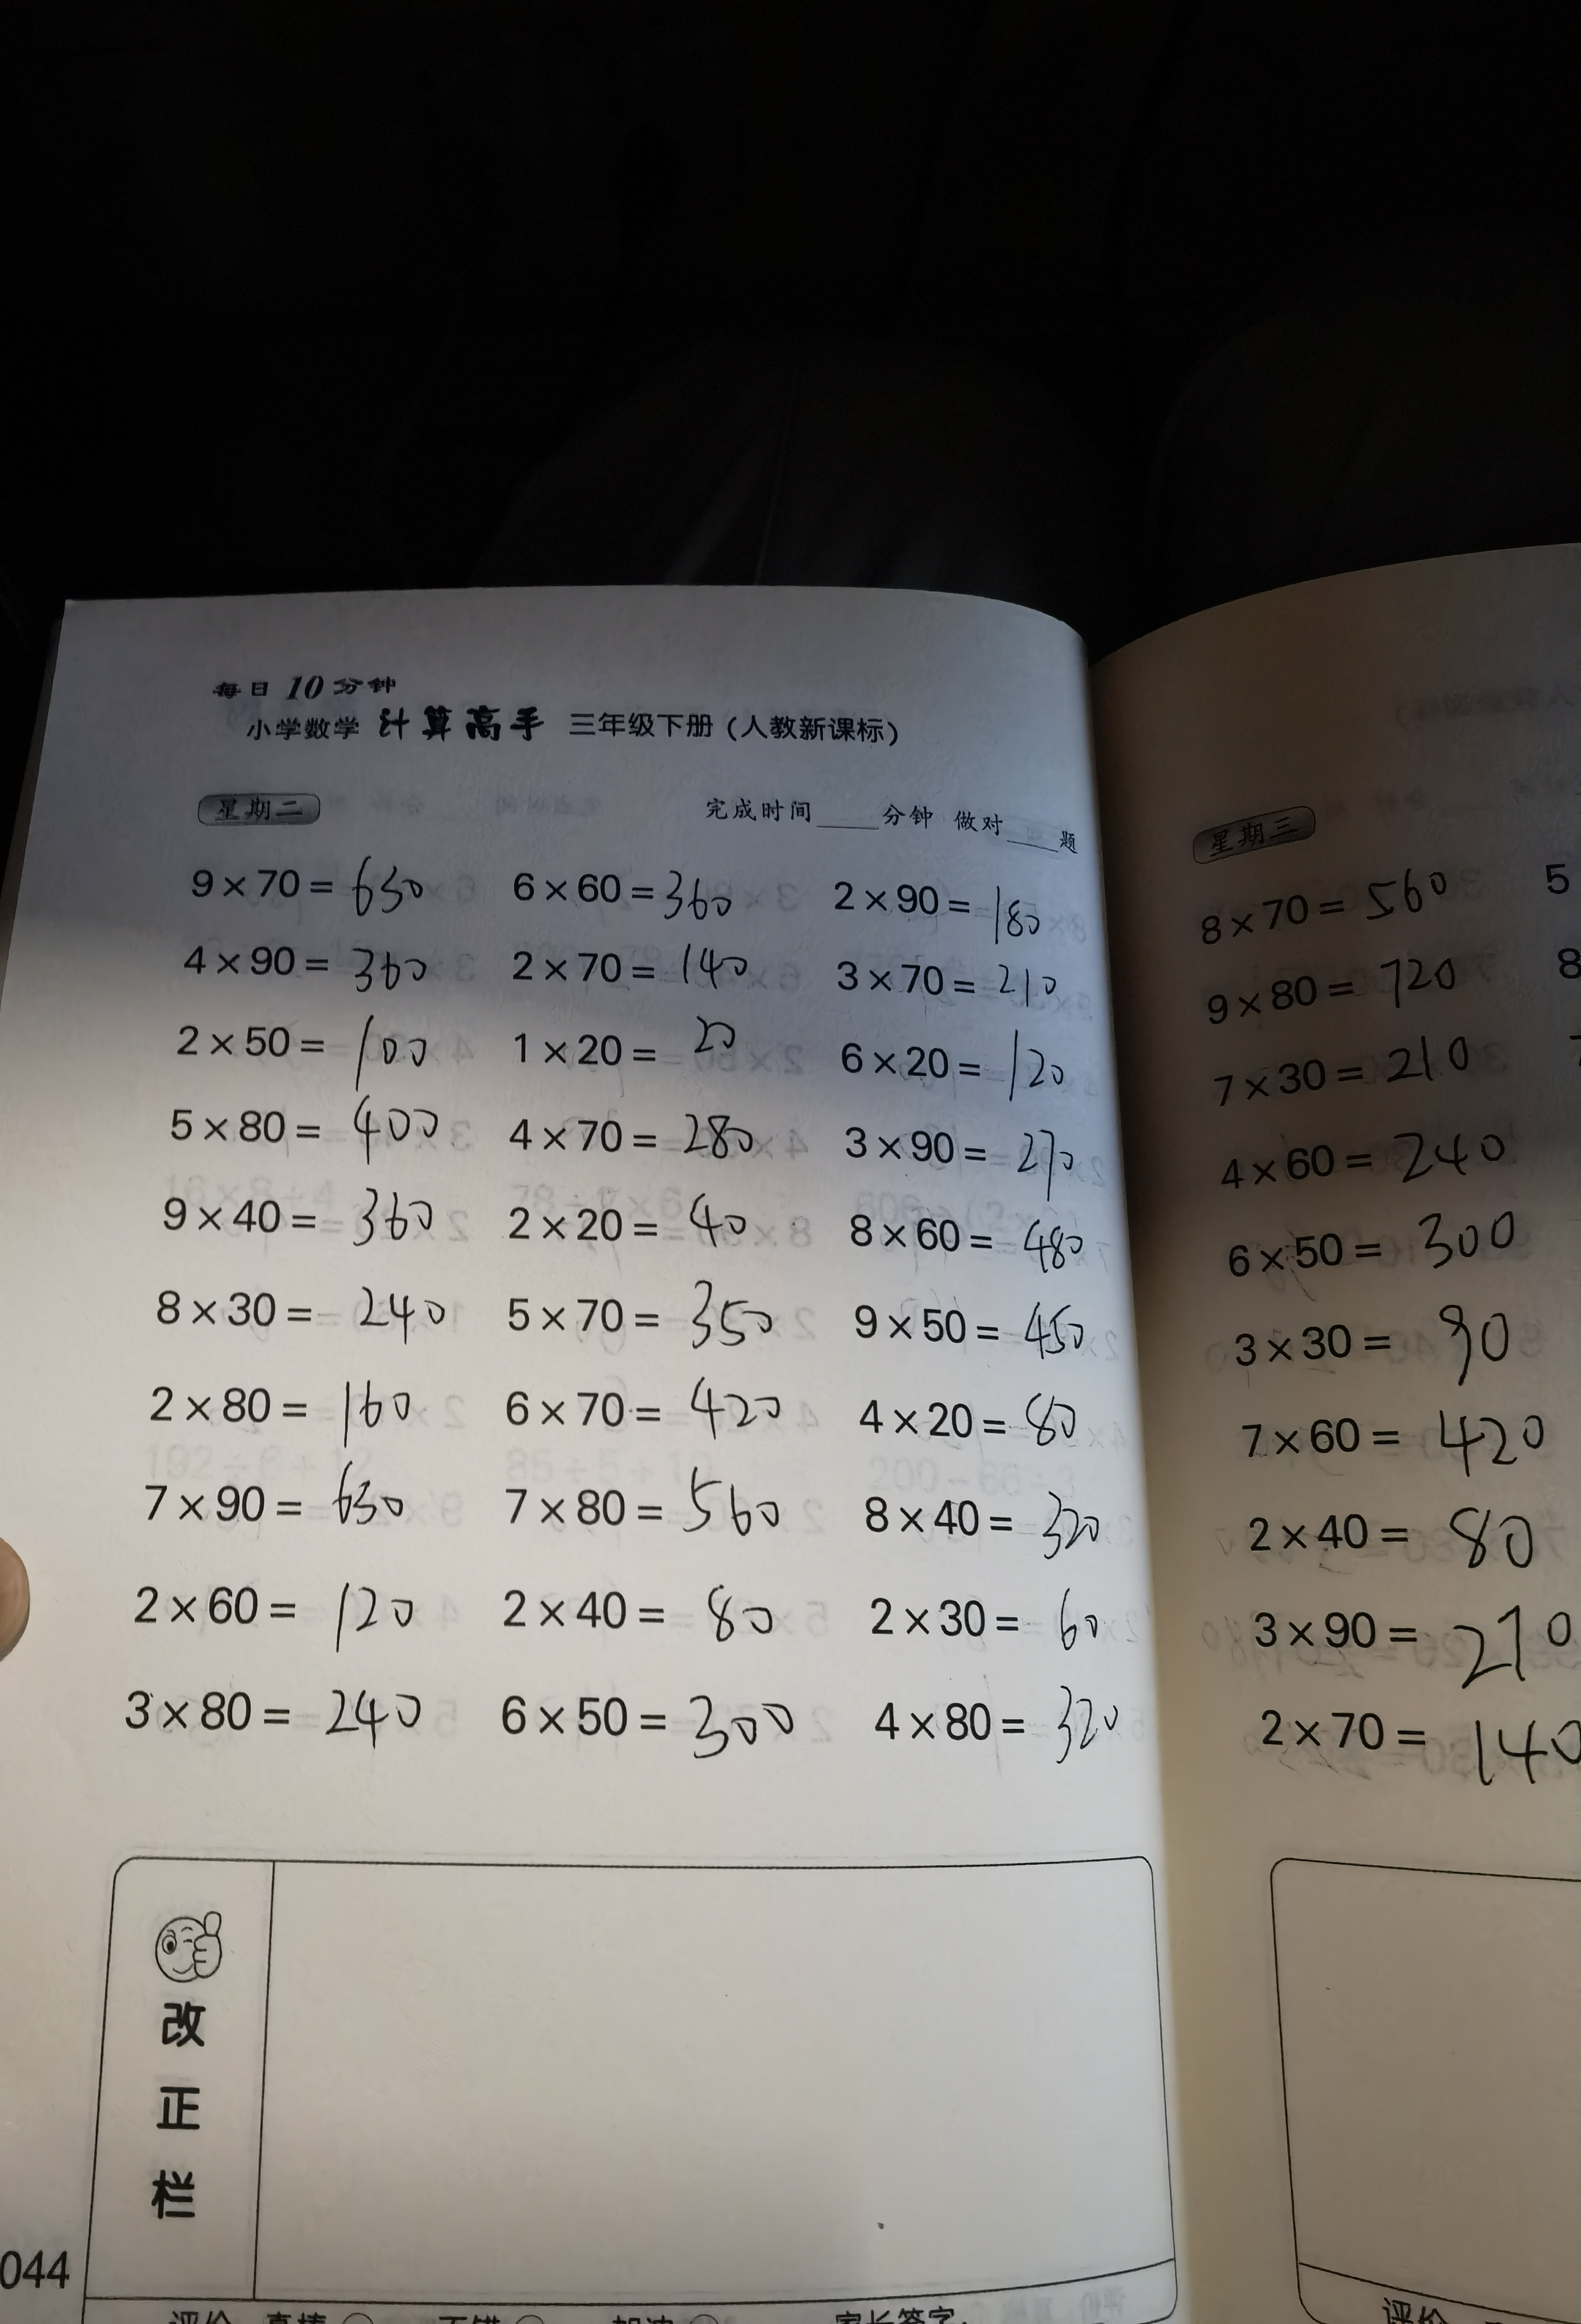equation: (478, 1669, 803, 1784), (108, 1664, 455, 1766), (134, 1345, 459, 1451), (856, 1671, 1152, 1779), (102, 1558, 420, 1646), (127, 1168, 453, 1253), (483, 1362, 796, 1451), (485, 1177, 796, 1265), (485, 1562, 785, 1652), (134, 1267, 462, 1348), (459, 1272, 787, 1353), (803, 1027, 1110, 1113), (487, 1466, 789, 1553), (482, 1089, 789, 1172), (835, 1285, 1101, 1376), (166, 840, 441, 928), (141, 1454, 418, 1541), (176, 1089, 471, 1168), (829, 1200, 1103, 1285), (819, 1112, 1117, 1189), (169, 1001, 441, 1085), (843, 1391, 1126, 1470), (856, 1581, 1103, 1669), (849, 1482, 1101, 1562), (808, 863, 1071, 939), (491, 1008, 761, 1080), (487, 861, 757, 930), (176, 937, 443, 1006), (836, 941, 1071, 1018), (483, 935, 761, 992)
